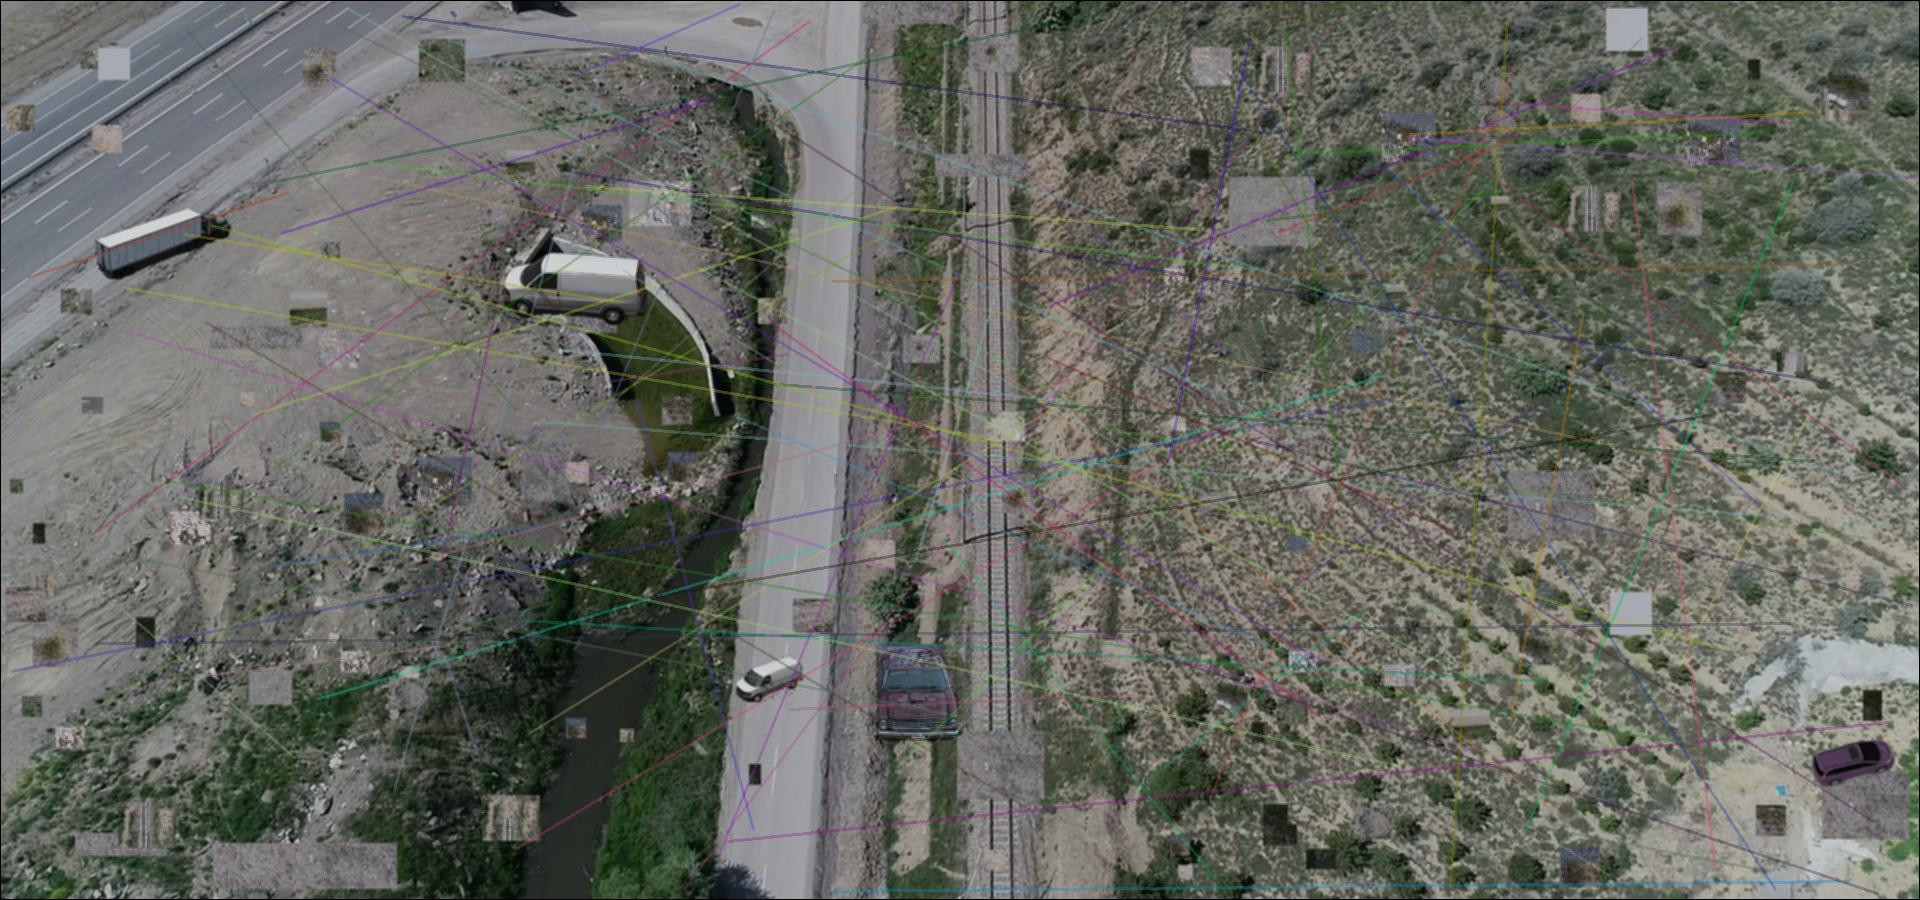arac: (504, 251, 647, 326), (868, 639, 962, 744), (91, 209, 231, 279), (1809, 740, 1897, 787), (736, 656, 803, 702)
